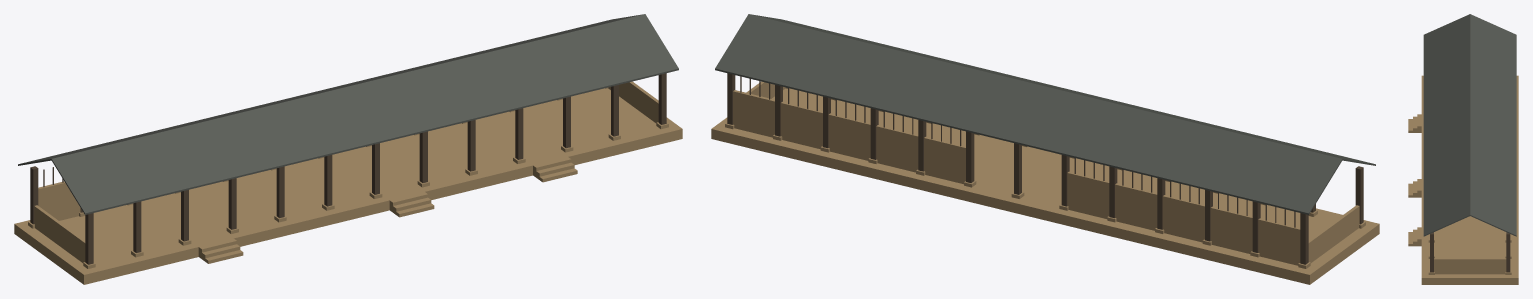
File: taixue-A-LOD2.glb
The picture shows the model from 3 angles, left to right: view 1: azimuth 30°, elevation 25°; view 2: azimuth 150°, elevation 25°; view 3: azimuth 270°, elevation 25°; orthographic projection. The views are drawn at different scales.
Visible parts, largest first — view 1: taixue-A-static_earth, taixue-A-static_tile, taixue-A-static_timber; view 2: taixue-A-static_tile, taixue-A-static_earth, taixue-A-static_timber; view 3: taixue-A-static_tile, taixue-A-static_earth, taixue-A-static_timber.
Boxes of the visible parts, x1,y1,x2,y2 form: taixue-A-static_earth: [14, 81, 682, 284]; taixue-A-static_tile: [18, 14, 678, 214]; taixue-A-static_timber: [30, 73, 666, 264]; taixue-A-static_tile: [715, 14, 1375, 214]; taixue-A-static_earth: [711, 81, 1379, 284]; taixue-A-static_timber: [727, 73, 1363, 264]; taixue-A-static_tile: [1423, 14, 1516, 236]; taixue-A-static_earth: [1408, 75, 1518, 284]; taixue-A-static_timber: [1430, 232, 1510, 272].
Bounding box in the file's own units: 37.6 × 6 × 8.65.
